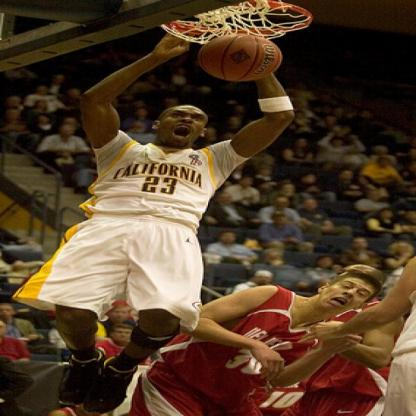basketball: (200, 33, 283, 83)
